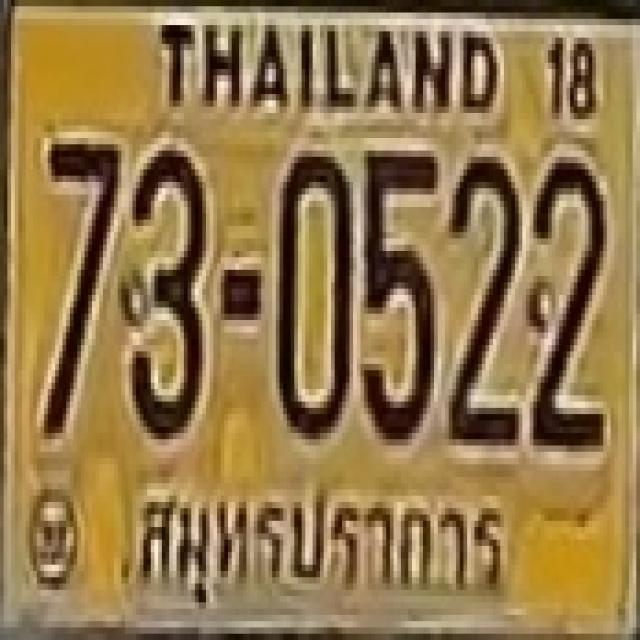0: (276, 144, 349, 433)
2: (526, 150, 603, 446), (447, 151, 517, 439)
3: (121, 144, 202, 433)
5: (360, 144, 434, 440)
7: (42, 138, 120, 433), (46, 138, 120, 414)
SPK: (130, 475, 520, 626)
